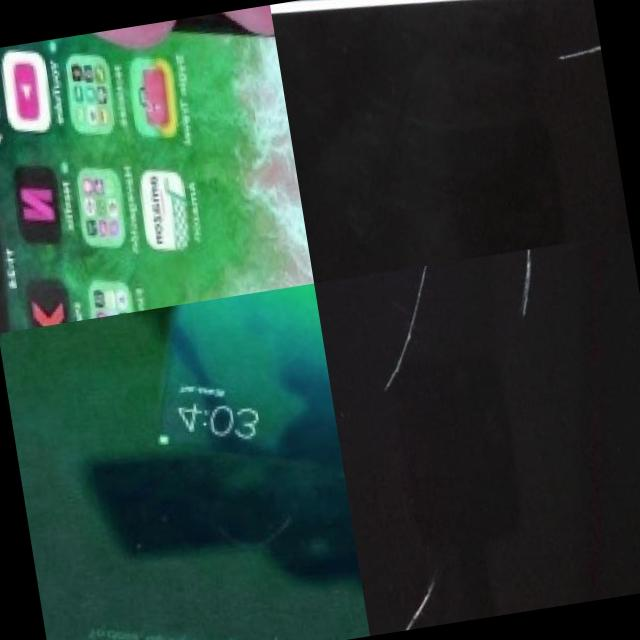scratch: (362, 263, 456, 399), (374, 572, 450, 634), (550, 11, 604, 72), (504, 248, 546, 326)
